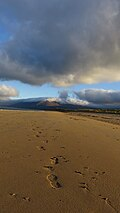human_footprint: (75, 167, 116, 211), (74, 166, 104, 194), (43, 157, 60, 187), (75, 166, 105, 179), (83, 166, 105, 180), (99, 194, 116, 211), (83, 166, 105, 176), (9, 192, 30, 201), (47, 174, 60, 188), (50, 155, 68, 164), (32, 127, 41, 137), (99, 194, 109, 202), (79, 182, 89, 190), (50, 157, 58, 164), (43, 165, 53, 170), (9, 192, 17, 198), (35, 130, 41, 137), (57, 155, 65, 160), (22, 196, 30, 201), (75, 170, 83, 175), (94, 171, 104, 175), (36, 146, 45, 150), (83, 166, 89, 171), (22, 154, 31, 157), (42, 139, 48, 143), (40, 146, 45, 150), (91, 176, 96, 180), (35, 134, 40, 138), (36, 146, 40, 150), (32, 128, 36, 132), (64, 159, 69, 162), (35, 170, 40, 173), (28, 138, 32, 141), (36, 126, 40, 129), (55, 129, 60, 131), (60, 146, 64, 148), (38, 131, 41, 133)
